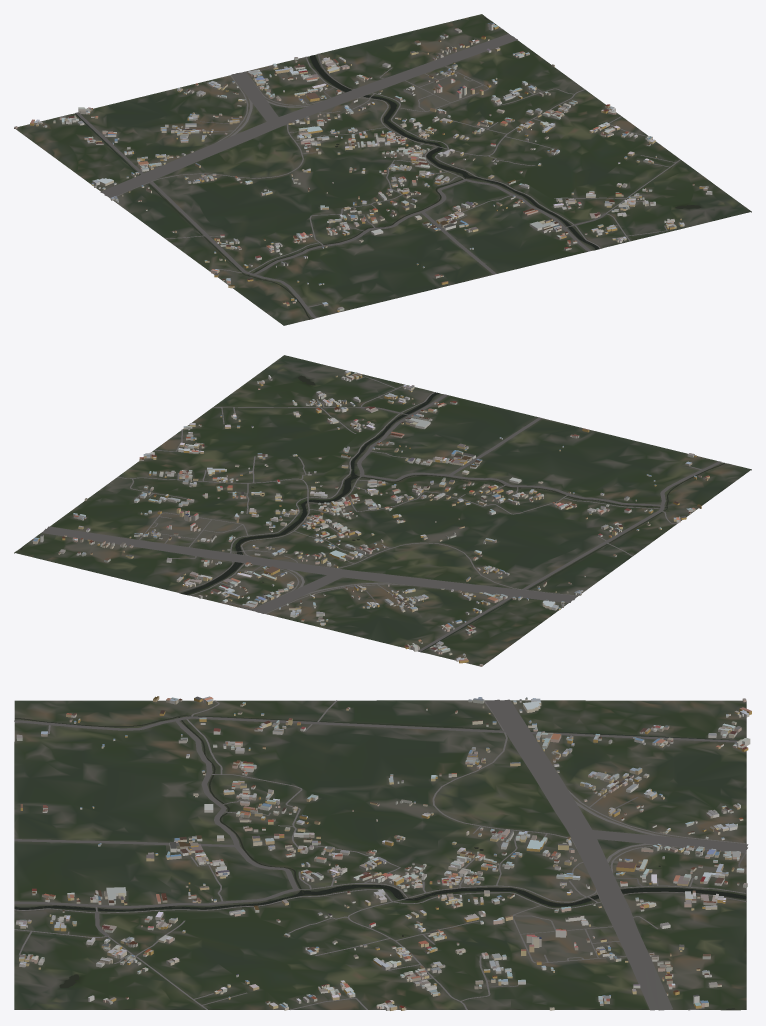
3 renders of one model, top to bottom at view 1: azimuth 30°, elevation 25°; view 2: azimuth 150°, elevation 25°; view 3: azimuth 270°, elevation 25°, orthographic. The views are drawn at different scales.
Visible parts, largest first — view 1: ground, buildings, roads, water; view 2: ground, buildings, roads, water; view 3: ground, buildings, roads, water.
Part boxes in pixels (<box>): ground: <box>14,14,751,325</box>; buildings: <box>14,22,712,311</box>; roads: <box>75,27,680,318</box>; water: <box>75,17,701,319</box>; ground: <box>14,355,751,666</box>; buildings: <box>33,370,709,666</box>; roads: <box>32,376,721,651</box>; water: <box>20,375,724,651</box>; ground: <box>14,700,746,1010</box>; buildings: <box>16,696,751,1010</box>; roads: <box>14,699,748,1010</box>; water: <box>14,715,746,1009</box>.
Bounding box in the file's own units: 1413 × 25.19 × 1411.
